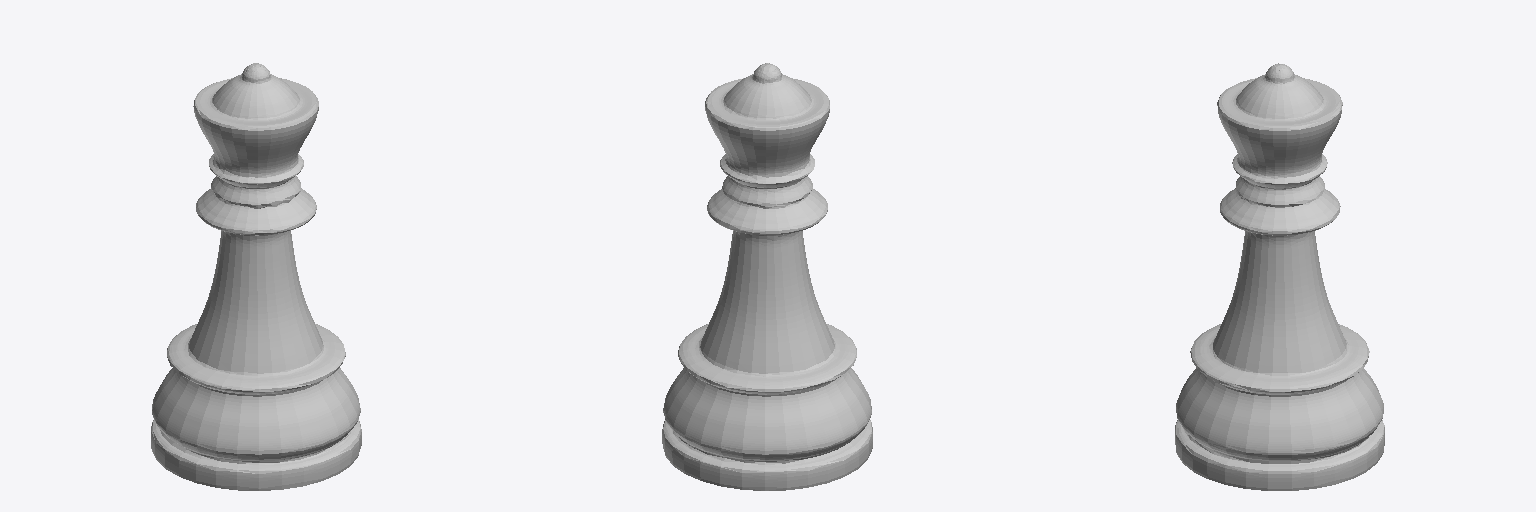
Rendered from rainha.obj.
The picture shows the model from 3 angles: view 1: azimuth 30°, elevation 25°; view 2: azimuth 150°, elevation 25°; view 3: azimuth 270°, elevation 25°; orthographic projection.
Visible parts, largest first — view 1: Queen; view 2: Queen; view 3: Queen.
Part boxes in pixels (x1,y1,x2,y2): Queen: (151, 63, 361, 490); Queen: (662, 63, 872, 490); Queen: (1175, 63, 1384, 490).
Bounding box in the file's own units: 0.9999 × 2 × 1.